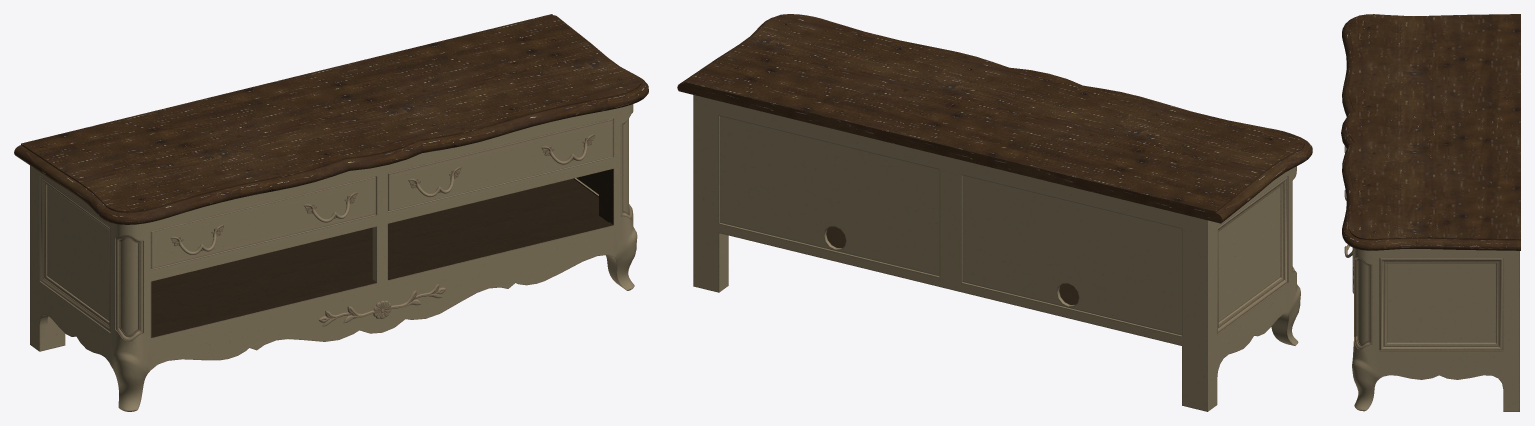
File: example110.glb
3 renders of one model, left to right at view 1: azimuth 30°, elevation 25°; view 2: azimuth 150°, elevation 25°; view 3: azimuth 270°, elevation 25°, orthographic. The views are drawn at different scales.
Parts seen in each view (by area): view 1: Buffer Layer (×3); view 2: Buffer Layer (×2); view 3: Buffer Layer (×2).
Boxes of the visible parts, box(x1,y1,x2,y2) form: Buffer Layer (×3): box(14, 14, 648, 411); Buffer Layer (×2): box(677, 14, 1312, 411); Buffer Layer (×2): box(1341, 14, 1520, 411).
Bounding box in the file's own units: 2.1 × 0.7475 × 0.6911.
Materials: 3 (3 with a texture image).
